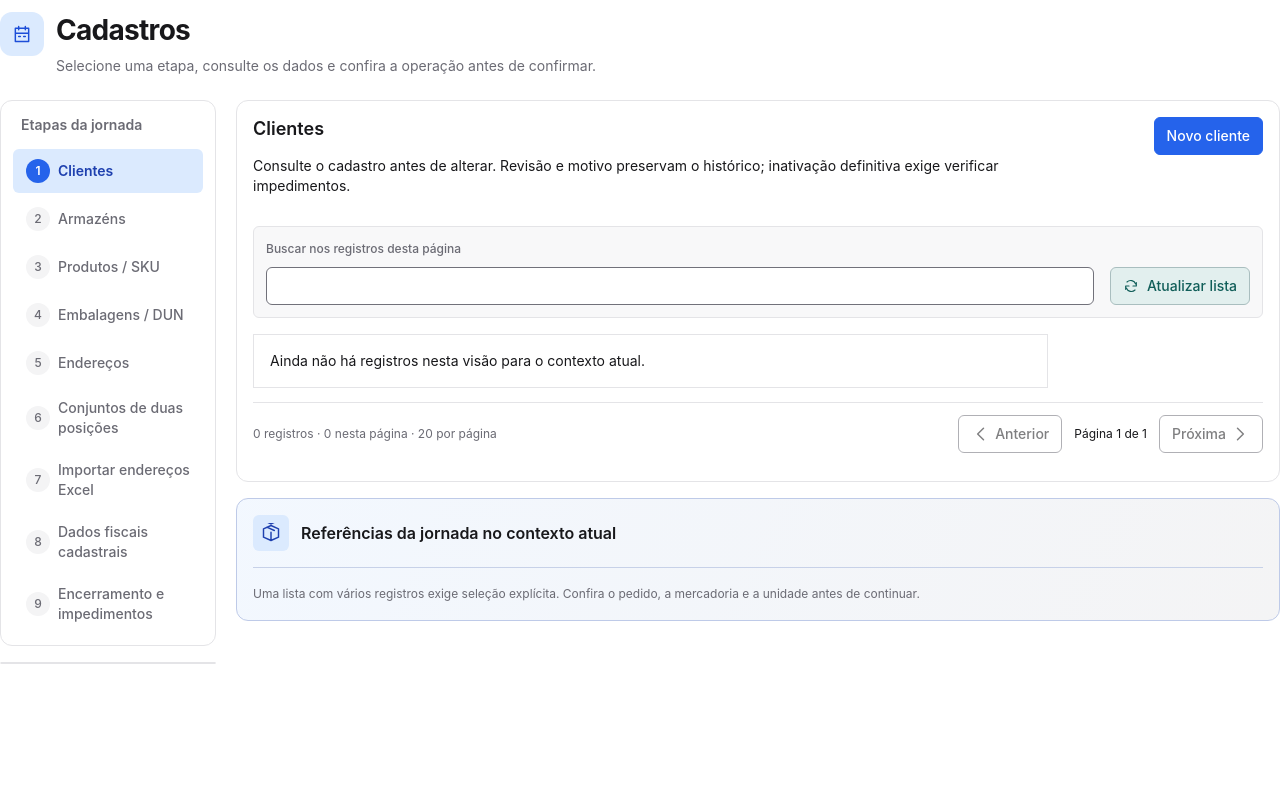
Test: REG01 Clientes por registro › distingue visão vazia de ausência de resultados para filtro local
This screenshot has width=1280, height=812.
expect the text "Ainda não há registros nesta visão para o contexto atual." is shown: met, box [253,334,1048,388]
Type "Cliente ausente" into the search field labelled "Buscar nos registros desta página". click: (680, 286)
box: [266,267,1094,305]
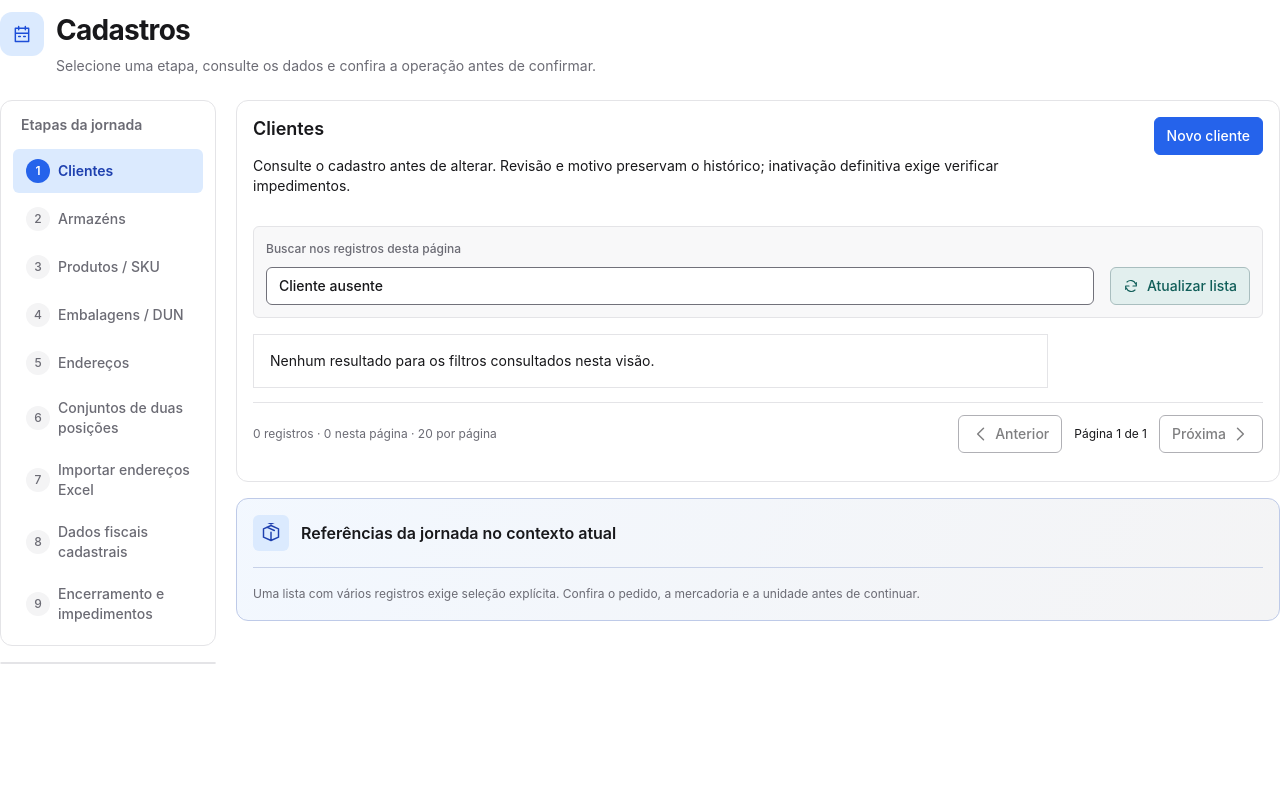
expect the text "Nenhum resultado para os filtros consultados nesta visão." is shown: met, box [253,334,1048,388]
